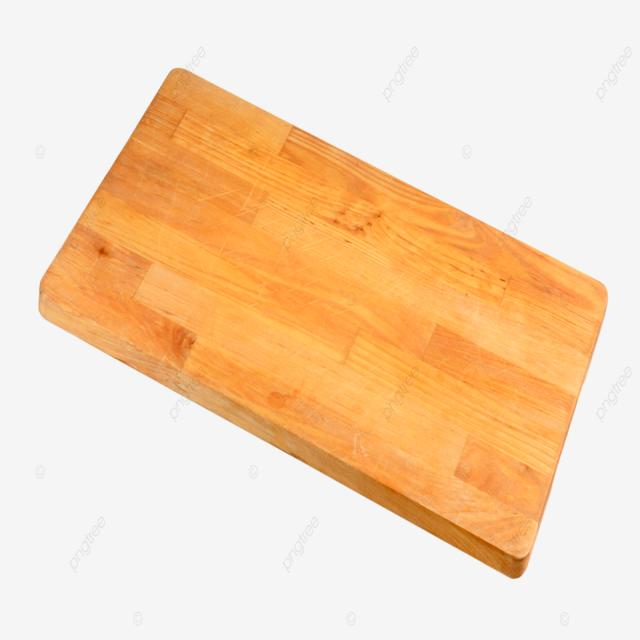Talenan: (25, 57, 619, 583)
